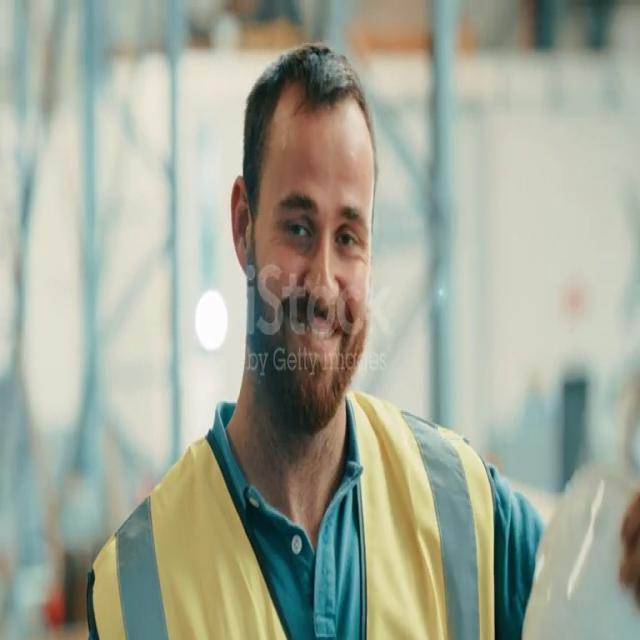sem_capacete: (202, 18, 392, 453)
